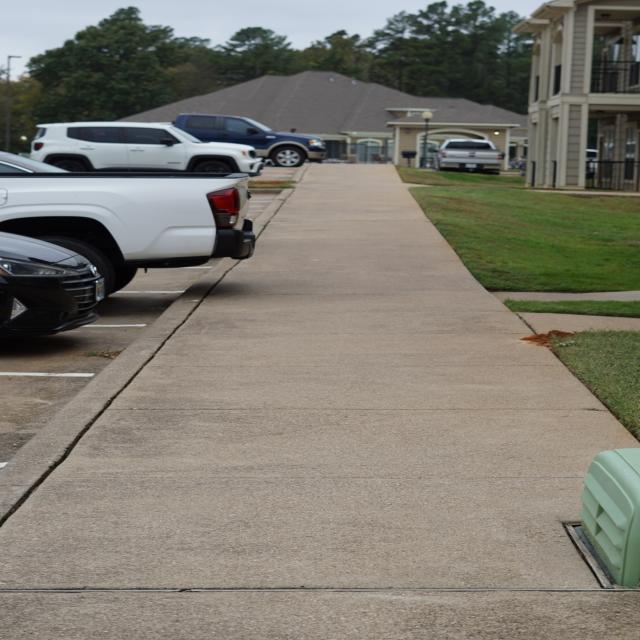Automobile: (0, 166, 251, 295), (30, 123, 263, 175), (0, 232, 101, 335), (172, 113, 325, 167), (437, 139, 503, 175)
Obstacle: (580, 448, 640, 587), (562, 522, 620, 588)
Road: (0, 259, 220, 462), (244, 166, 307, 226)
Sidewalk: (0, 165, 640, 640), (515, 313, 640, 334), (491, 291, 640, 302)
